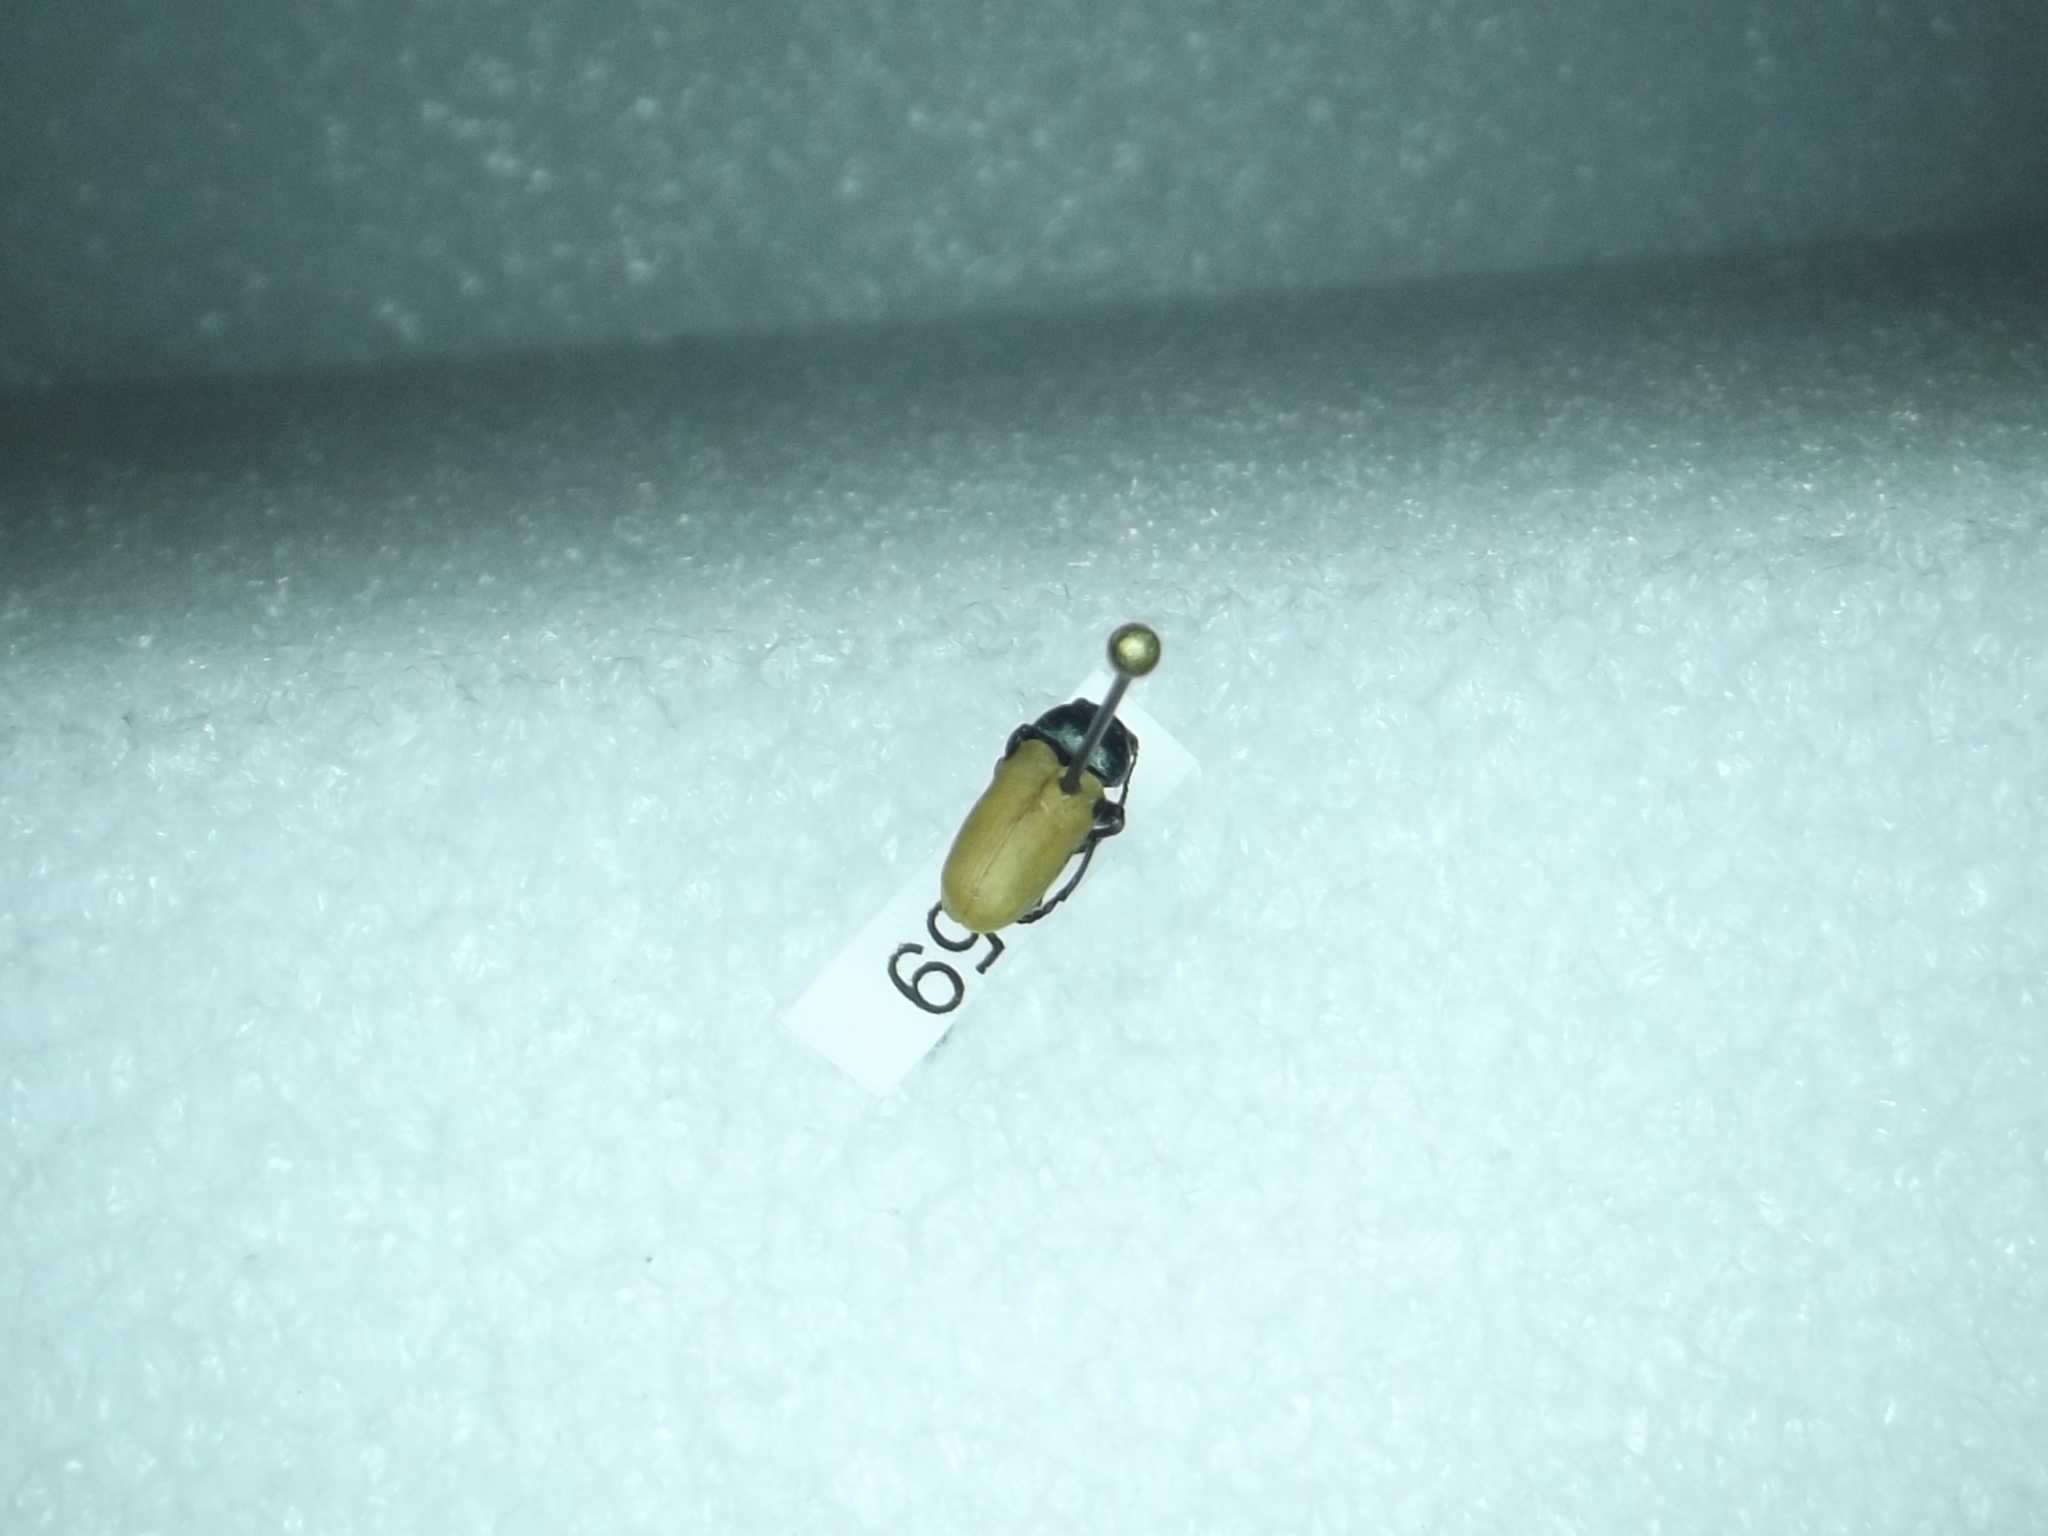Labidostomis_longimana: (922, 662, 1143, 941)
